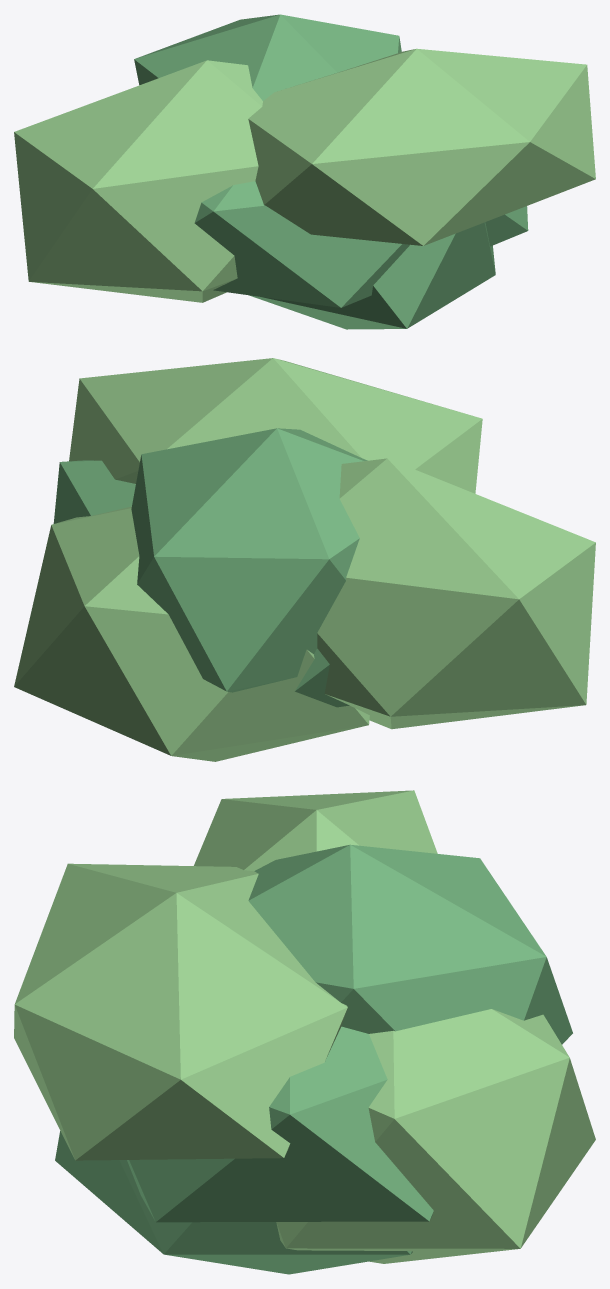
File: bush_03.glb
3 renders of one model, top to bottom at view 1: azimuth 30°, elevation 25°; view 2: azimuth 150°, elevation 25°; view 3: azimuth 270°, elevation 25°, orthographic. The views are drawn at different scales.
Parts seen in each view (by area): view 1: bush_03; view 2: bush_03; view 3: bush_03.
Boxes of the visible parts, <box> form: bush_03: <box>14,14,595,329</box>; bush_03: <box>14,358,595,761</box>; bush_03: <box>14,790,595,1274</box>.
Size of the model in its own units: 1.49 by 0.8686 by 1.14.
